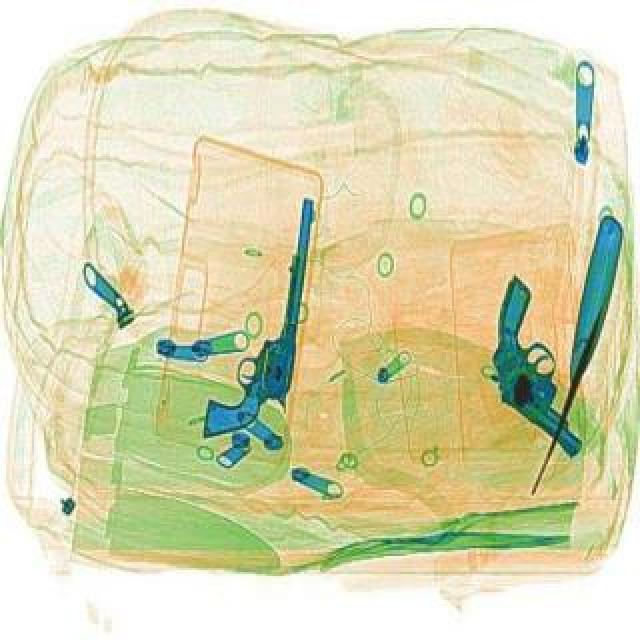gun: (444, 272, 640, 444), (204, 188, 322, 442)
knife: (516, 214, 640, 498)
